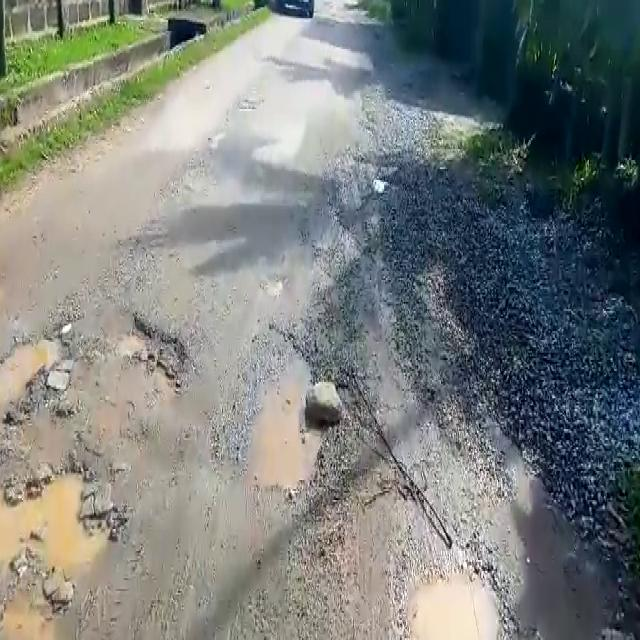Pothole: (2, 458, 128, 606), (239, 369, 338, 503), (396, 567, 513, 640), (3, 320, 78, 421), (118, 312, 187, 400)
